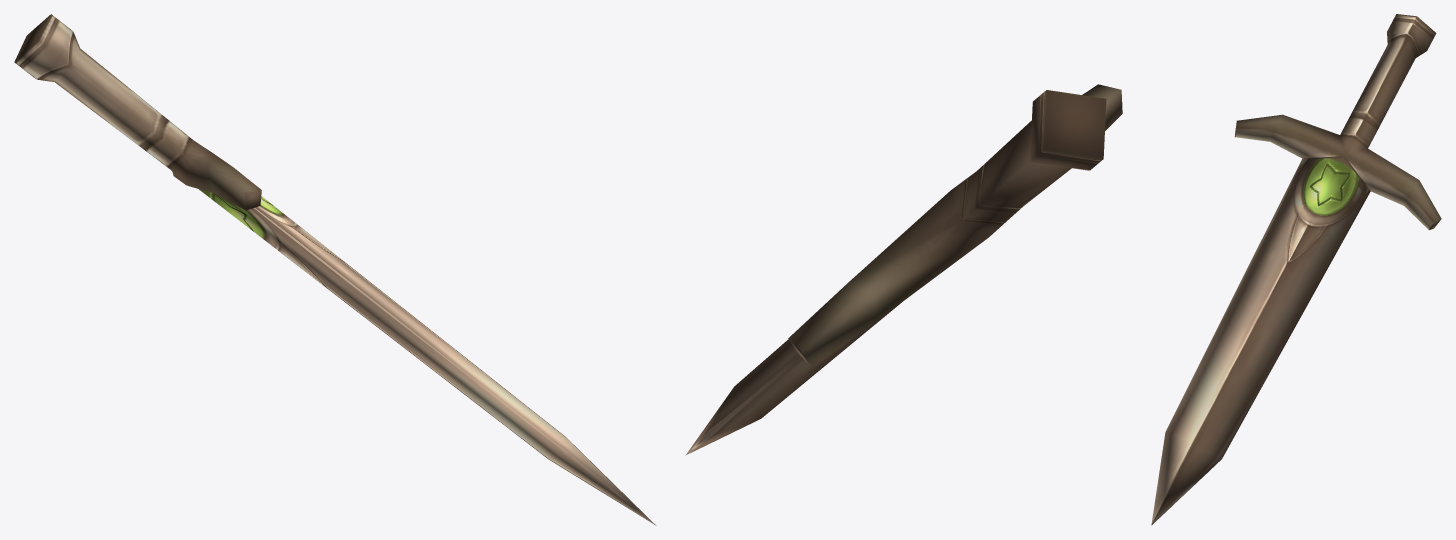
File: Sword(42).obj
The picture shows the model from 3 angles, left to right: view 1: azimuth 30°, elevation 25°; view 2: azimuth 150°, elevation 25°; view 3: azimuth 270°, elevation 25°; orthographic projection. The views are drawn at different scales.
Visible parts, largest first — view 1: sword1_LOD003; view 2: sword1_LOD003; view 3: sword1_LOD003.
Part boxes in pixels (box(x1,y1,x2,y2)): sword1_LOD003: box(14, 14, 656, 525); sword1_LOD003: box(685, 84, 1122, 455); sword1_LOD003: box(1151, 14, 1441, 525).
Size of the model in its own units: 0.906 by 0.9045 by 0.6674.
